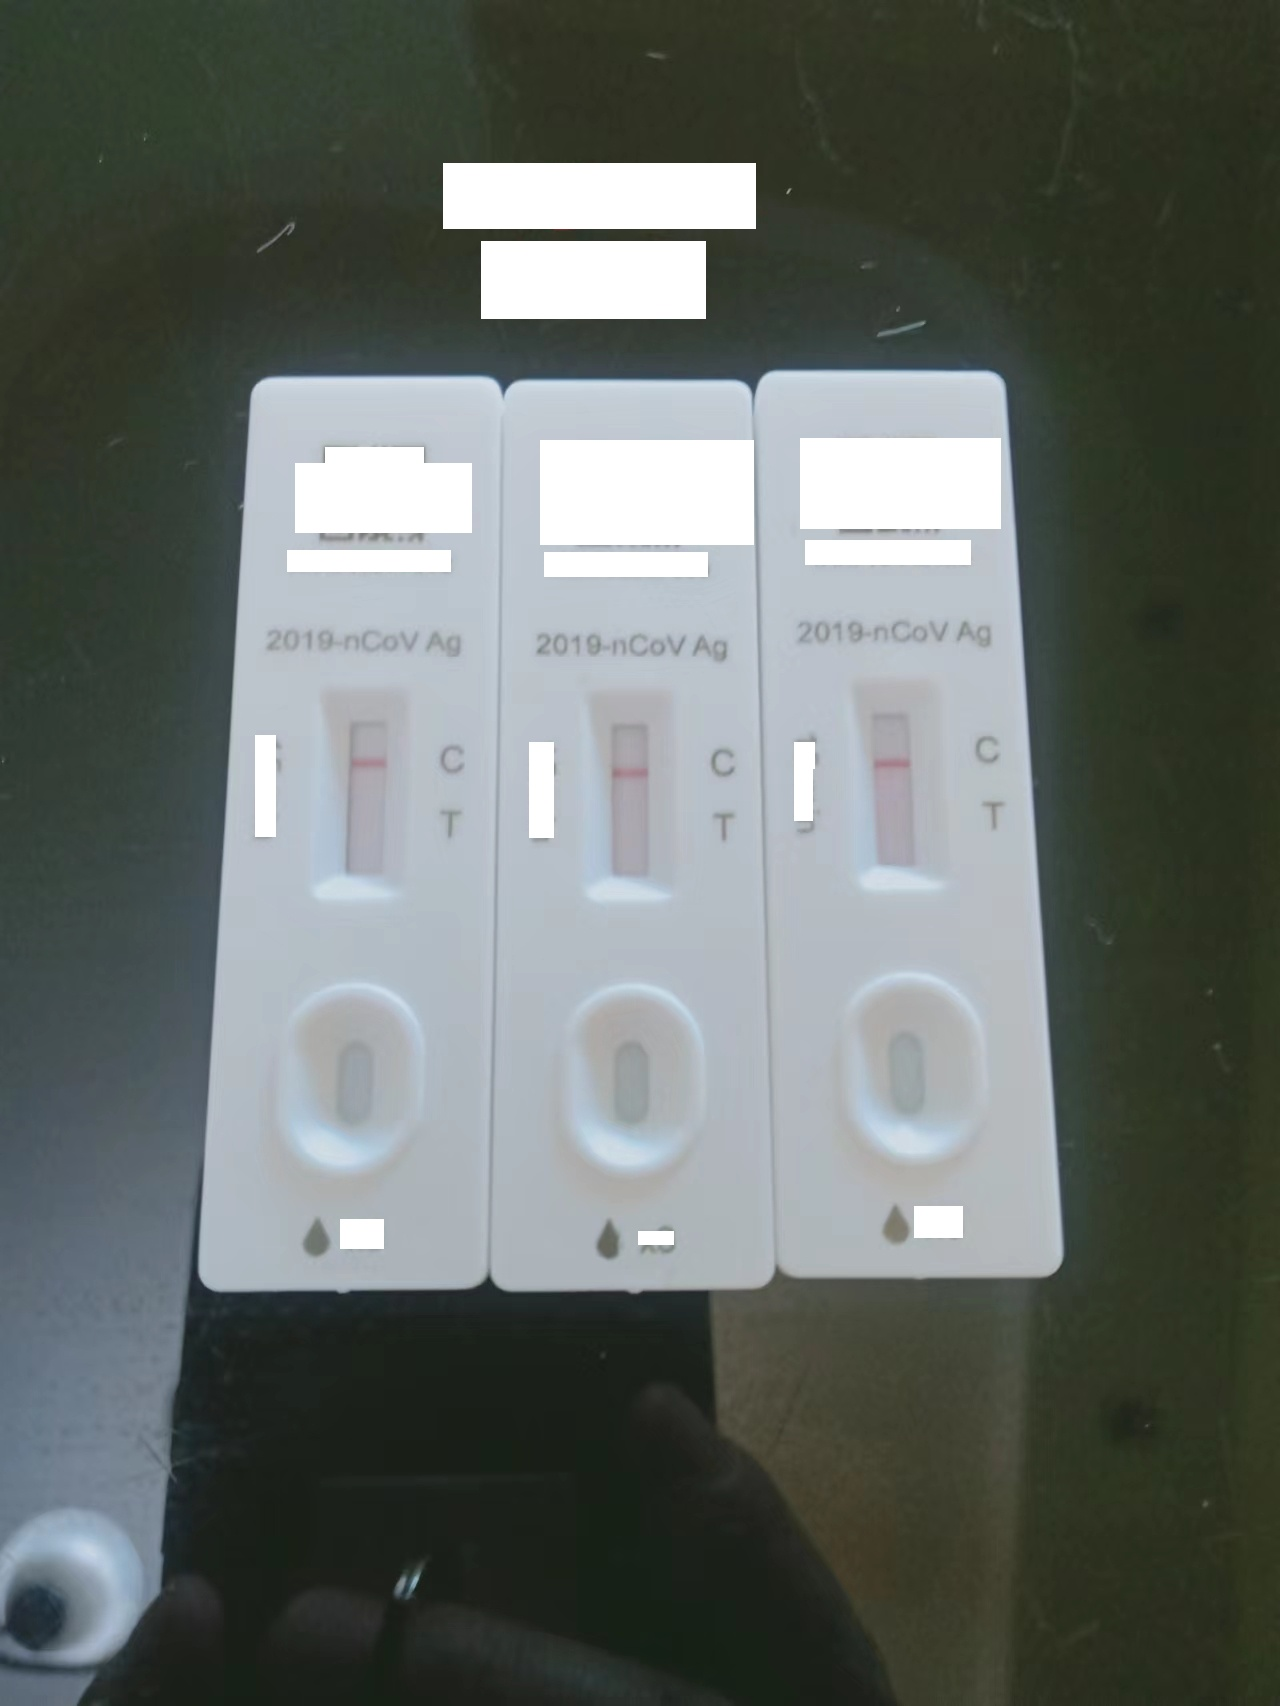negative: (584, 690, 678, 907), (319, 687, 411, 902), (852, 679, 947, 889)
